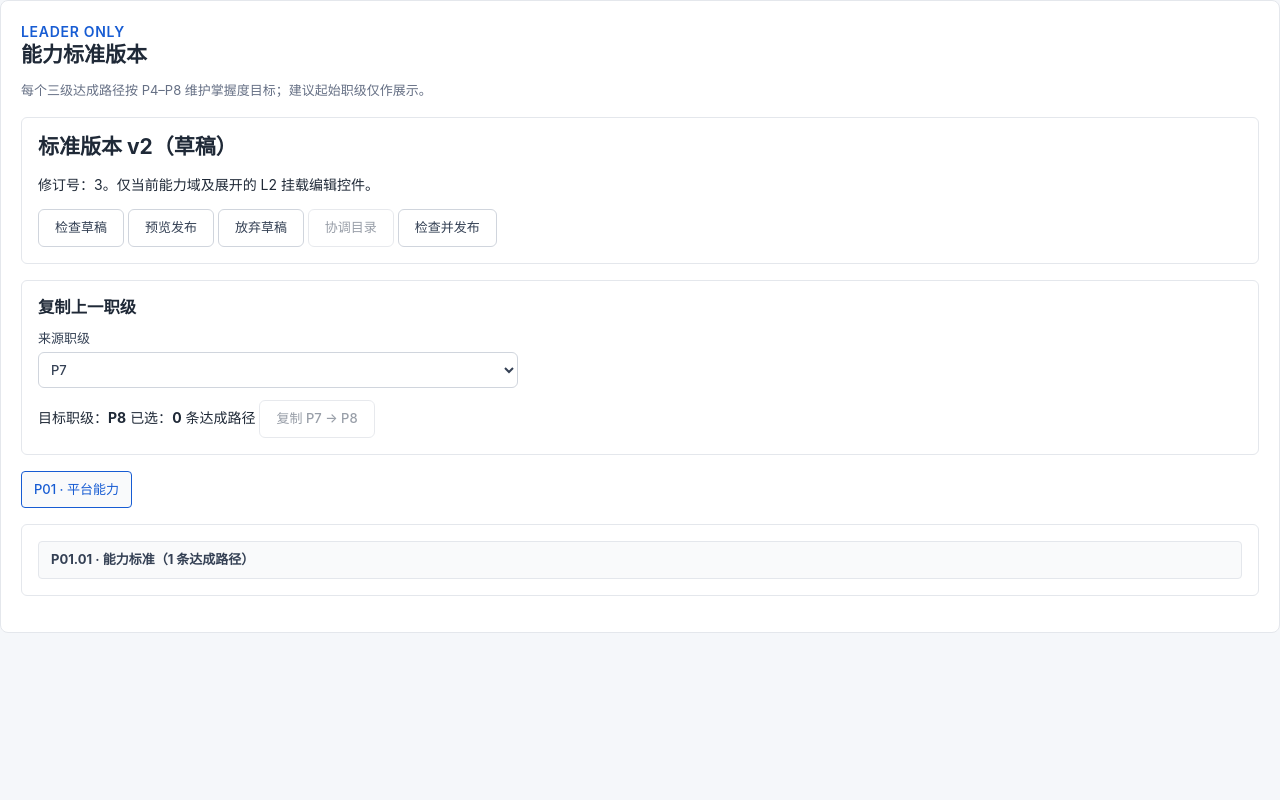
CapabilityStandardVersionsPage › matches matrix by l3_node_id only
Click the button "P01.01 · 能力标准（1 条达成路径）" at [72, 559], box [38, 542, 1242, 579]
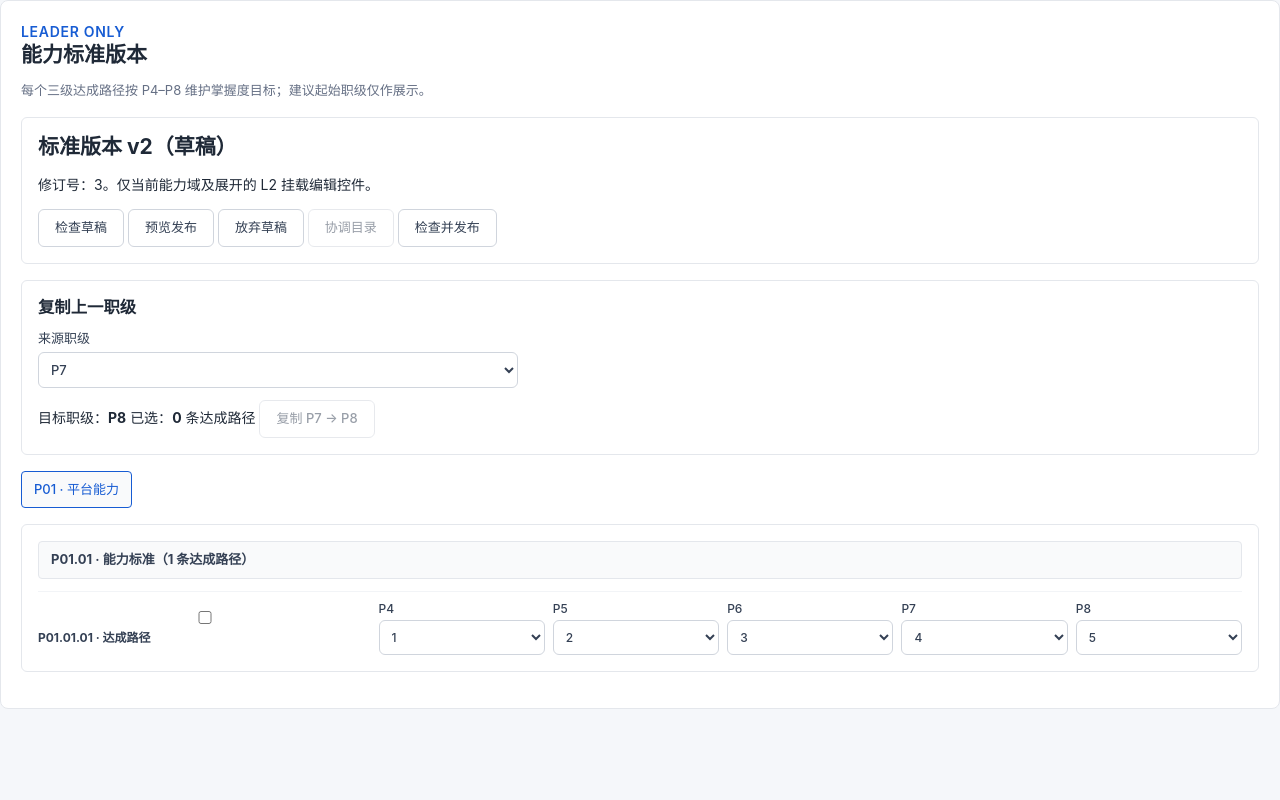
expect the number of dropdowns is 6: met, box [38, 352, 518, 388]; [379, 620, 545, 655]; [553, 620, 719, 655]; [727, 620, 893, 655]; [901, 620, 1068, 655]; [1076, 620, 1242, 655]
expect the element with test id "standard-l2-P01.01" is shown: met, box [38, 591, 1242, 655]
